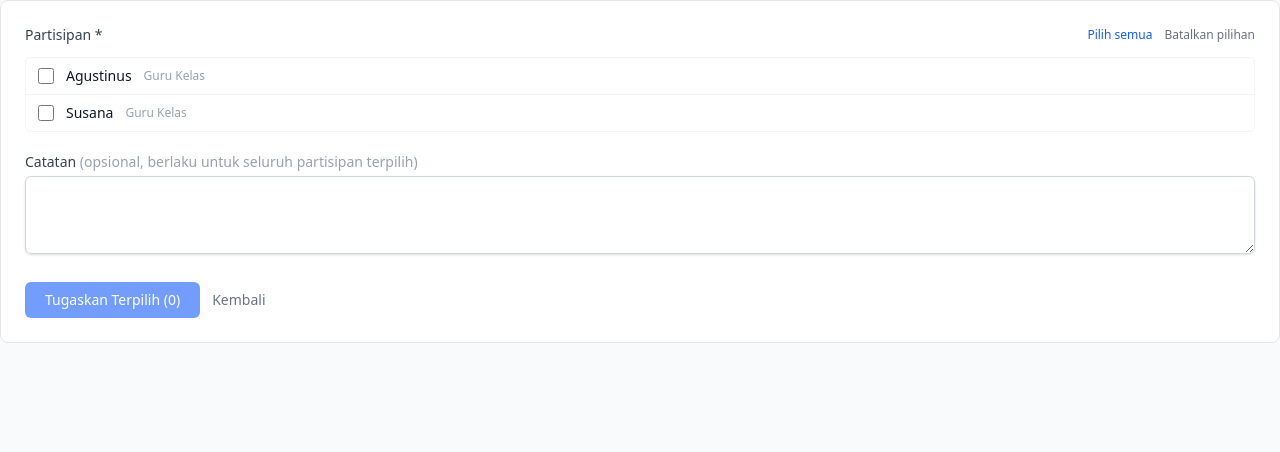
TsPenugasanBulkForm › menampilkan ringkasan skipped dengan label Indonesia
Step 1. Click the checkbox labelled "Agustinus Guru Kelas" → [46, 76], box x1=38 y1=68 x2=54 y2=84
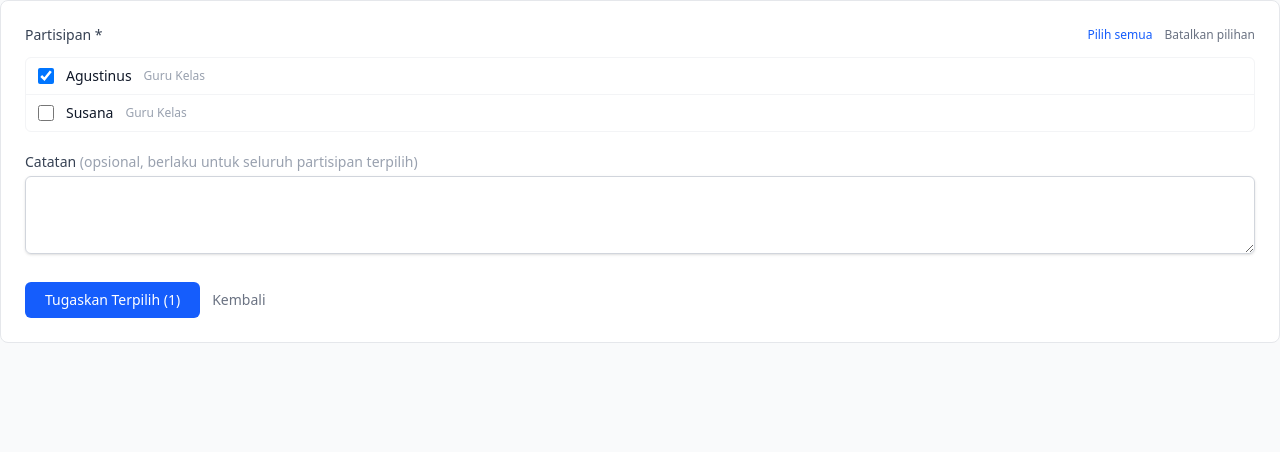
Step 2. Click the button "Tugaskan Terpilih (1)" → [113, 300], box x1=25 y1=282 x2=200 y2=318
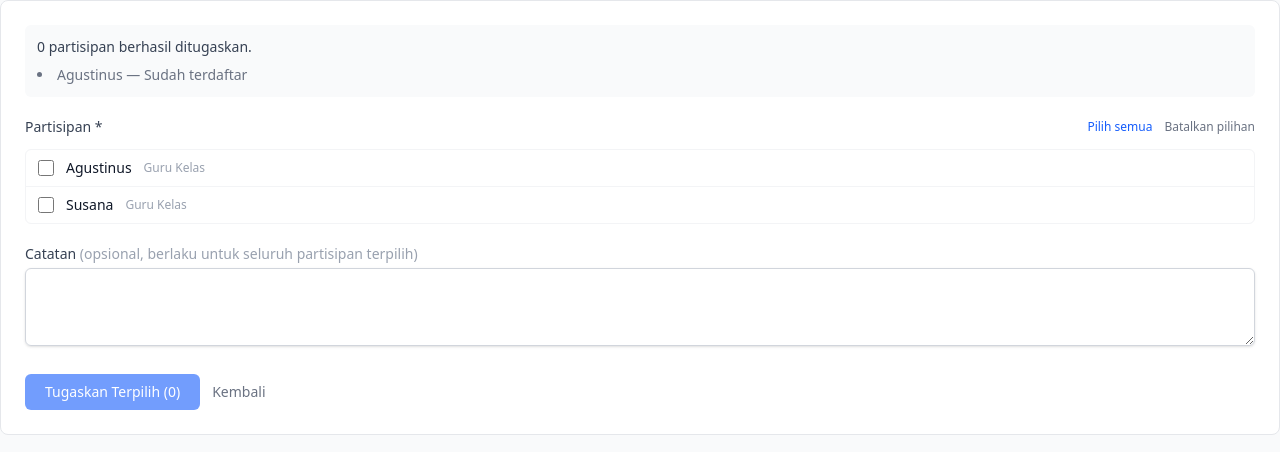
Expected: the list item "Agustinus — Sudah terdaftar" is shown, x1=57 y1=65 x2=247 y2=84
